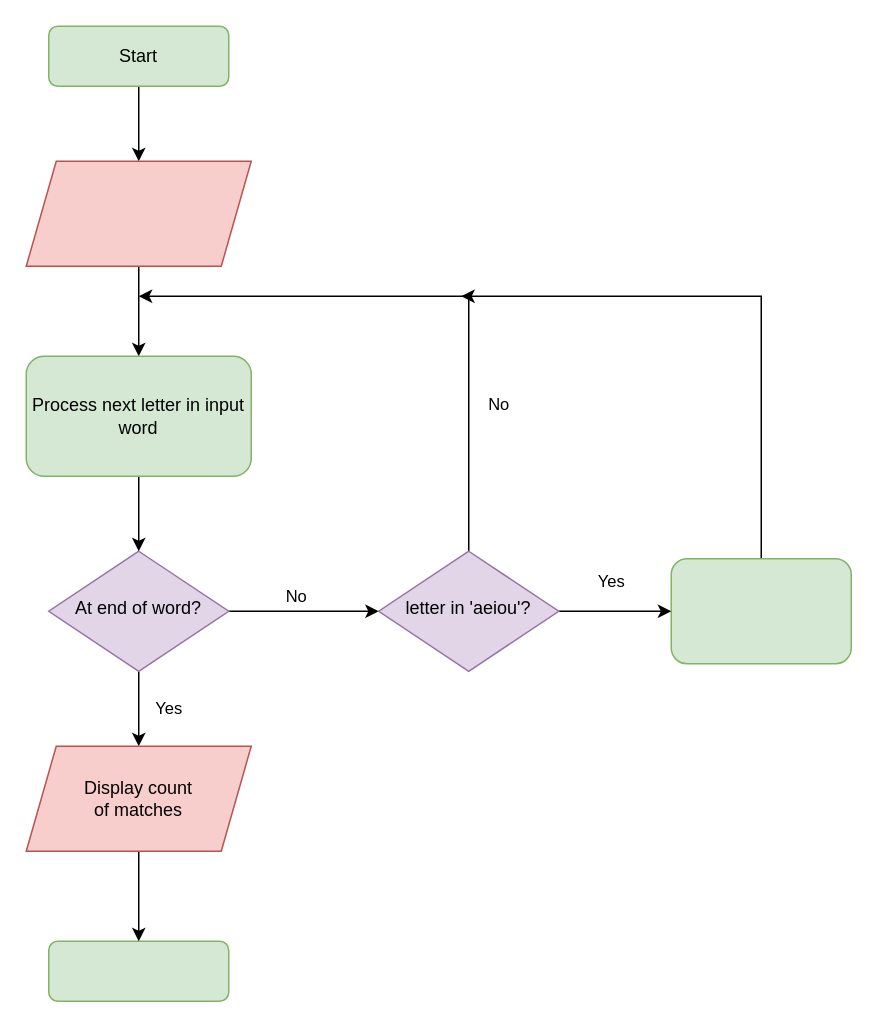
Image size: 878x1028. Some labels were removed from this diagram. The shapes that lost their labels are listed below. From the top down, each one's centre as x and y in pixels, then its label:
(x=138, y=213): Read input word, set counter to zero
(x=760, y=610): increment counter
(x=138, y=970): Stop
